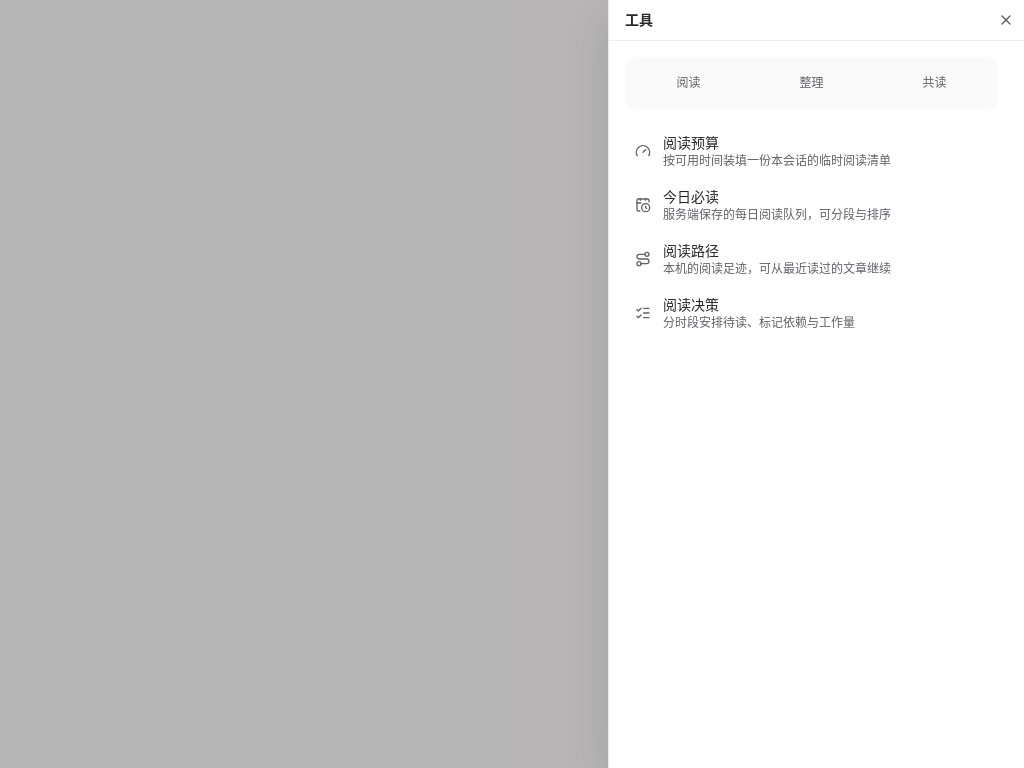
it: ToolsDrawer — 面板内二级视图（返回栈在抽屉内） › 点击工具 → 面板展开 + 返回按钮；返回回工具列表（抽屉不关）
Click the tab "整理". click: (812, 83)
box: [752, 61, 871, 105]
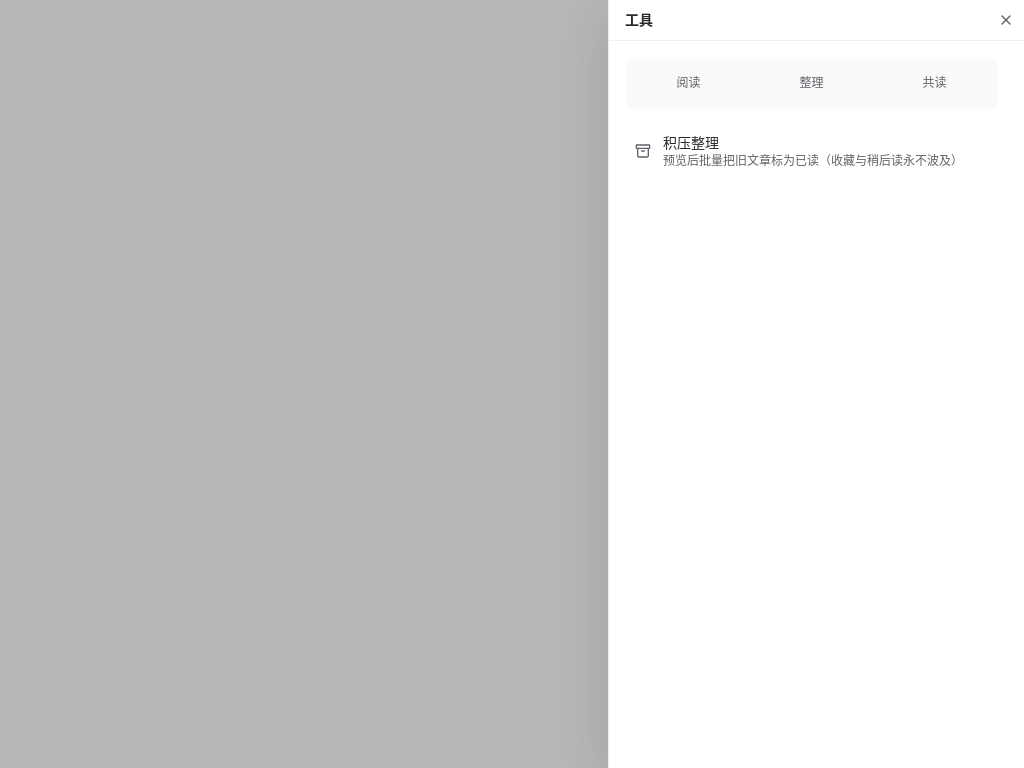
Click the button with test id "tools-drawer-item-backlog". click: (812, 151)
box: [625, 125, 998, 177]
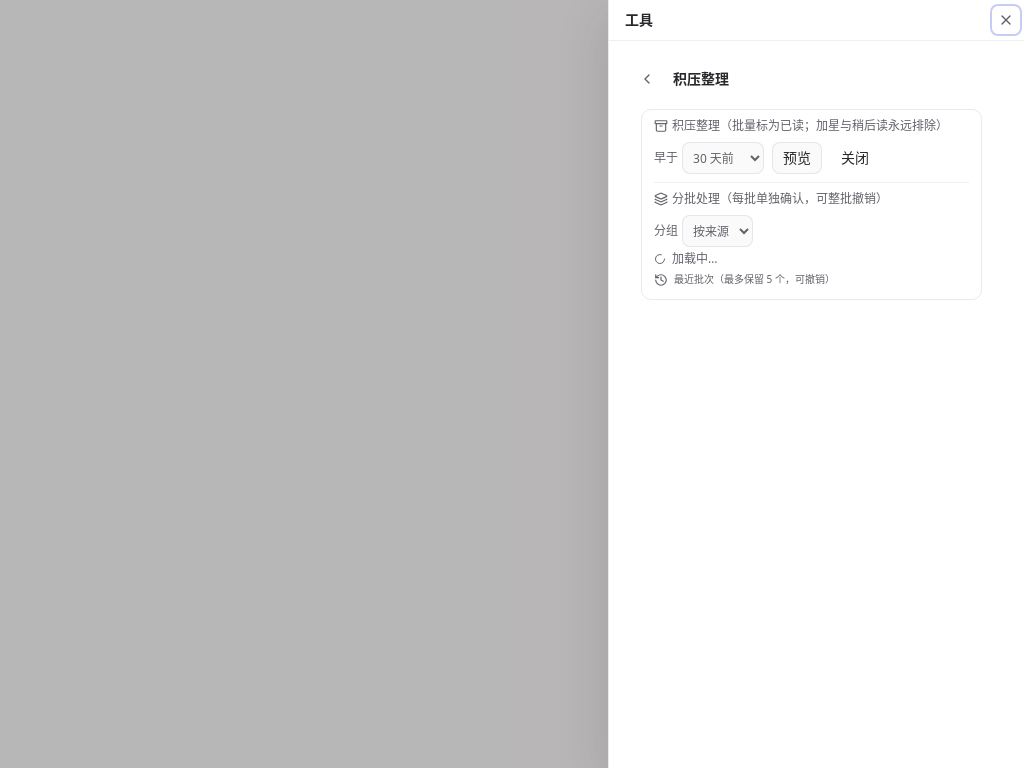
Now the element with test id "tools-drawer-secondary" is shown, box [625, 57, 998, 300]
Now the button named "返回工具列表" is shown
Now the text "积压整理（批量标为已读；加星与稍后读永远排除）" is shown, box [654, 118, 969, 134]
Click the button named "返回工具列表". click: (647, 79)
box: [625, 57, 669, 101]
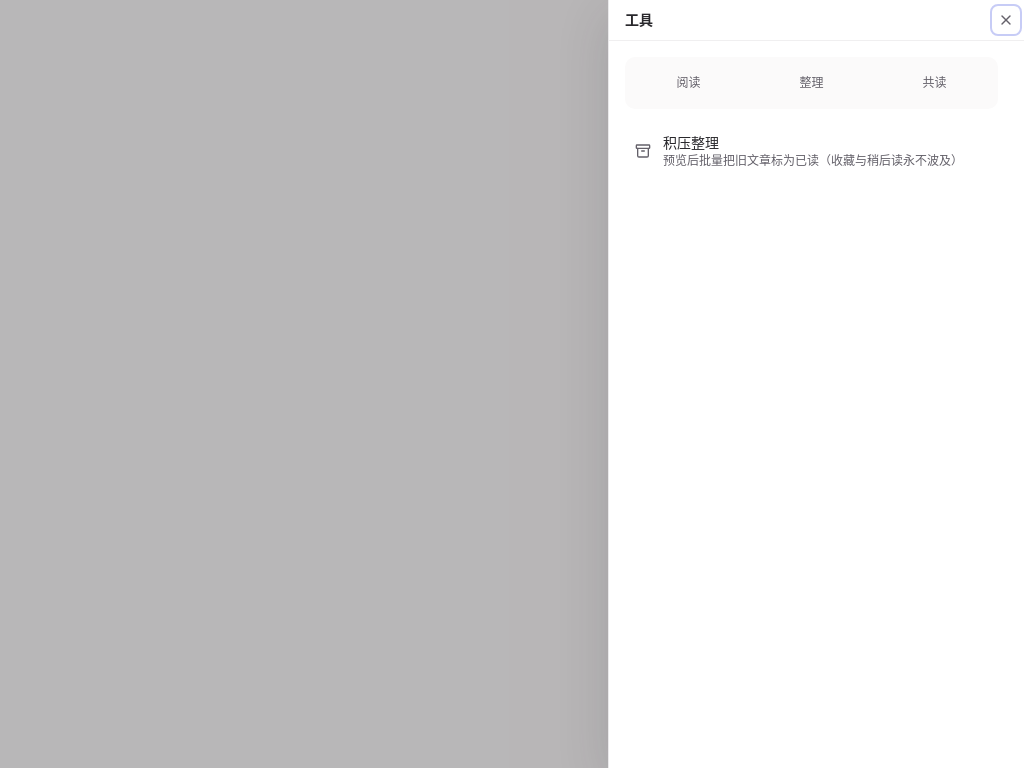
Now the button with test id "tools-drawer-item-backlog" is shown, box [625, 125, 998, 177]
Now the element with test id "tools-drawer-secondary" is gone
